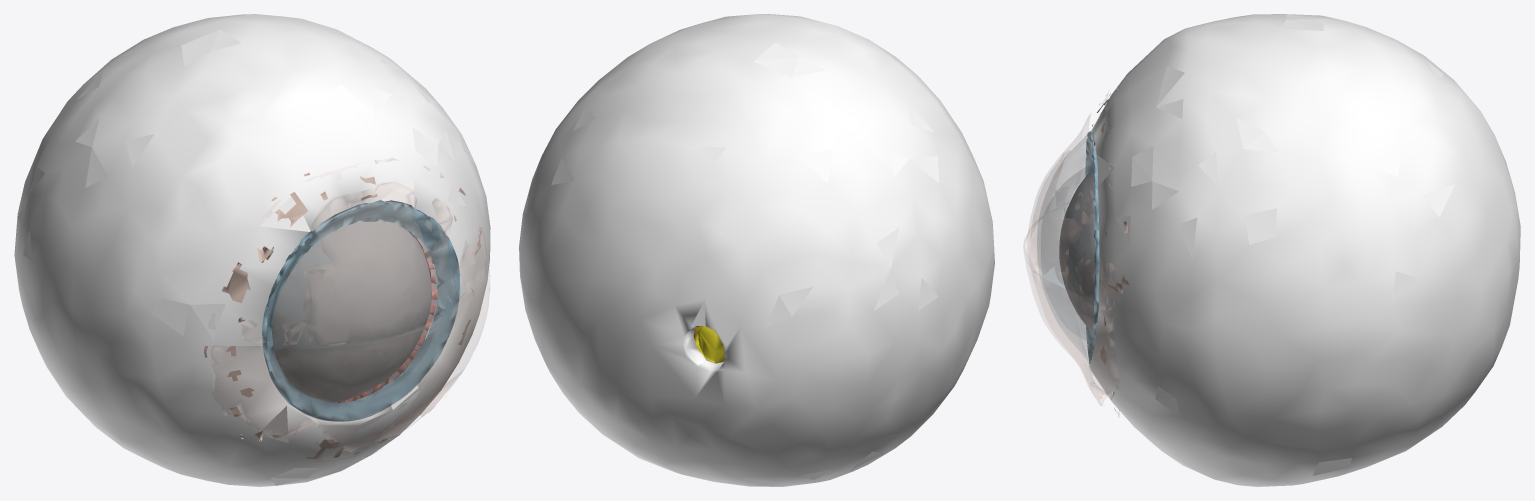
File: 3d-vh-f-eye-l-20.glb
3 views of the same model, side by side, from view 1: azimuth 30°, elevation 25°; view 2: azimuth 150°, elevation 25°; view 3: azimuth 270°, elevation 25° (orthographic).
Visible parts, largest first — view 1: VH_F_sclera_L, VH_F_cornea_L, VH_F_palpebral_conjunctiva_of_left_lower_eyelid, VH_F_aqueous_humor_L, VH_F_palpebral_conjunctiva_of_left_upper_eyelid, VH_F_corneo_scleral_junction_L, VH_F_bulbar_conjunctiva_L, VH_F_ciliary_muscle_L; view 2: VH_F_sclera_L, VH_F_optic_disc_L; view 3: VH_F_sclera_L, VH_F_cornea_L, VH_F_palpebral_conjunctiva_of_left_upper_eyelid, VH_F_palpebral_conjunctiva_of_left_lower_eyelid, VH_F_aqueous_humor_L, VH_F_corneo_scleral_junction_L.
Part boxes in pixels (x1=…): VH_F_sclera_L: x1=14, y1=14, x2=490, y2=486; VH_F_cornea_L: x1=262, y1=202, x2=459, y2=421; VH_F_palpebral_conjunctiva_of_left_lower_eyelid: x1=209, y1=270, x2=489, y2=462; VH_F_aqueous_humor_L: x1=272, y1=220, x2=431, y2=402; VH_F_palpebral_conjunctiva_of_left_upper_eyelid: x1=209, y1=158, x2=486, y2=345; VH_F_corneo_scleral_junction_L: x1=262, y1=200, x2=459, y2=421; VH_F_bulbar_conjunctiva_L: x1=204, y1=173, x2=482, y2=458; VH_F_ciliary_muscle_L: x1=333, y1=251, x2=437, y2=402; VH_F_sclera_L: x1=519, y1=14, x2=994, y2=486; VH_F_optic_disc_L: x1=698, y1=326, x2=724, y2=363; VH_F_sclera_L: x1=1089, y1=14, x2=1520, y2=486; VH_F_cornea_L: x1=1037, y1=132, x2=1097, y2=363; VH_F_palpebral_conjunctiva_of_left_upper_eyelid: x1=1027, y1=90, x2=1115, y2=309; VH_F_palpebral_conjunctiva_of_left_lower_eyelid: x1=1024, y1=225, x2=1119, y2=417; VH_F_aqueous_humor_L: x1=1059, y1=169, x2=1095, y2=331; VH_F_corneo_scleral_junction_L: x1=1085, y1=130, x2=1099, y2=363.
Size of the model in its own units: 0.0245 by 0.0244 by 0.0258.
